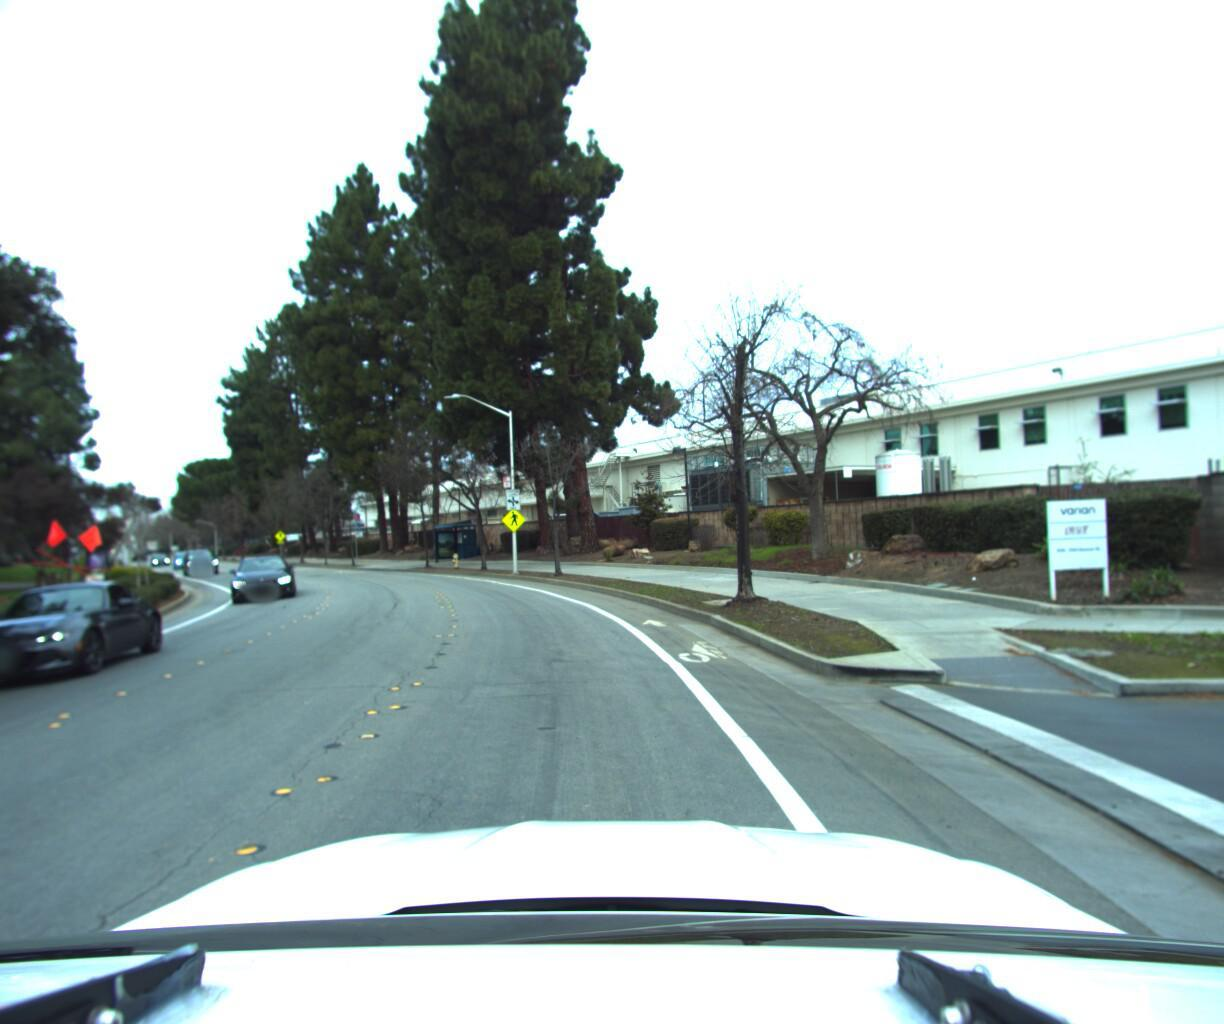car: (0, 563, 176, 707), (235, 547, 302, 602), (183, 545, 223, 574), (170, 548, 197, 568)
